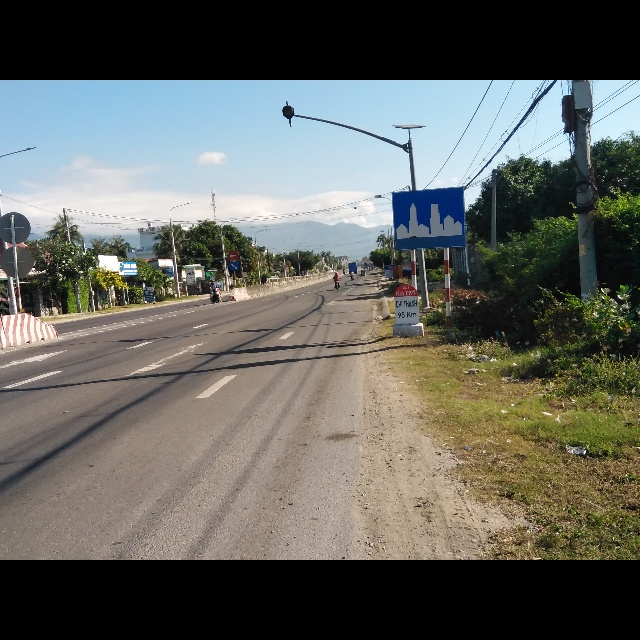Khu đông dân cư: (390, 185, 466, 249)
